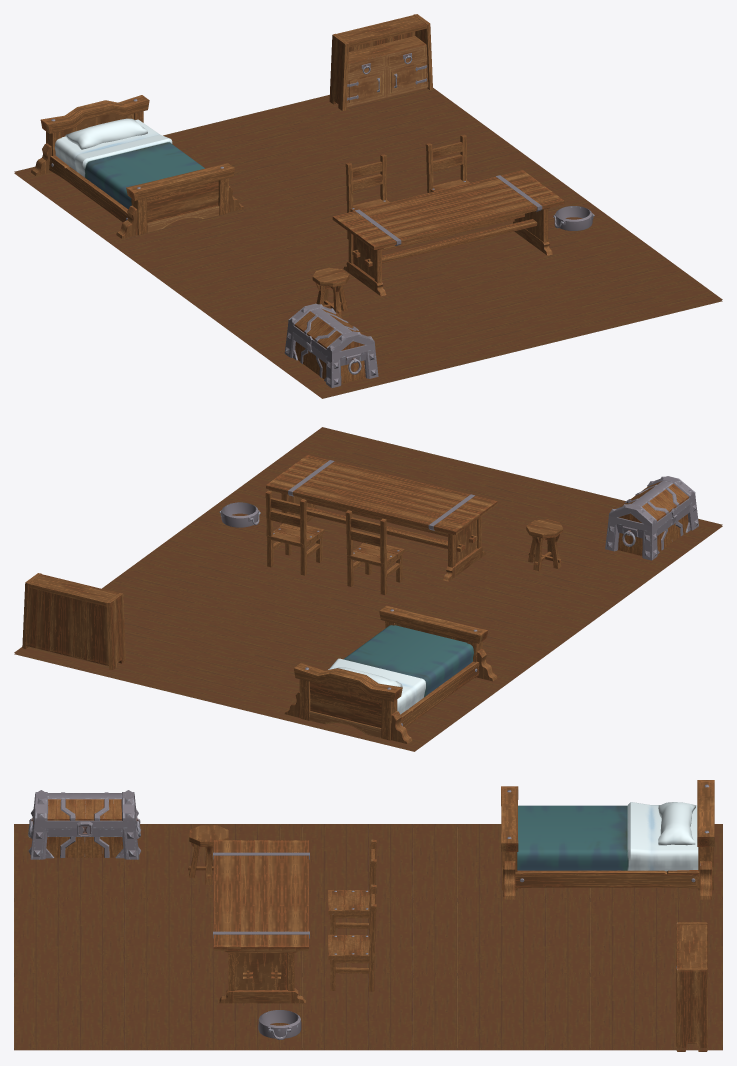
Rendered from house_a_in.gltf.
3 renders of one model, top to bottom at view 1: azimuth 30°, elevation 25°; view 2: azimuth 150°, elevation 25°; view 3: azimuth 270°, elevation 25°, orthographic. The views are drawn at different scales.
Visible parts, largest first — view 1: house_a_in; view 2: house_a_in; view 3: house_a_in.
Part boxes in pixels (x1,y1,x2,y2): house_a_in: [14, 14, 722, 398]; house_a_in: [14, 427, 722, 751]; house_a_in: [14, 780, 722, 1051].
Size of the model in its own units: 6 by 1.14 by 8.
4 materials, 4 textured.
